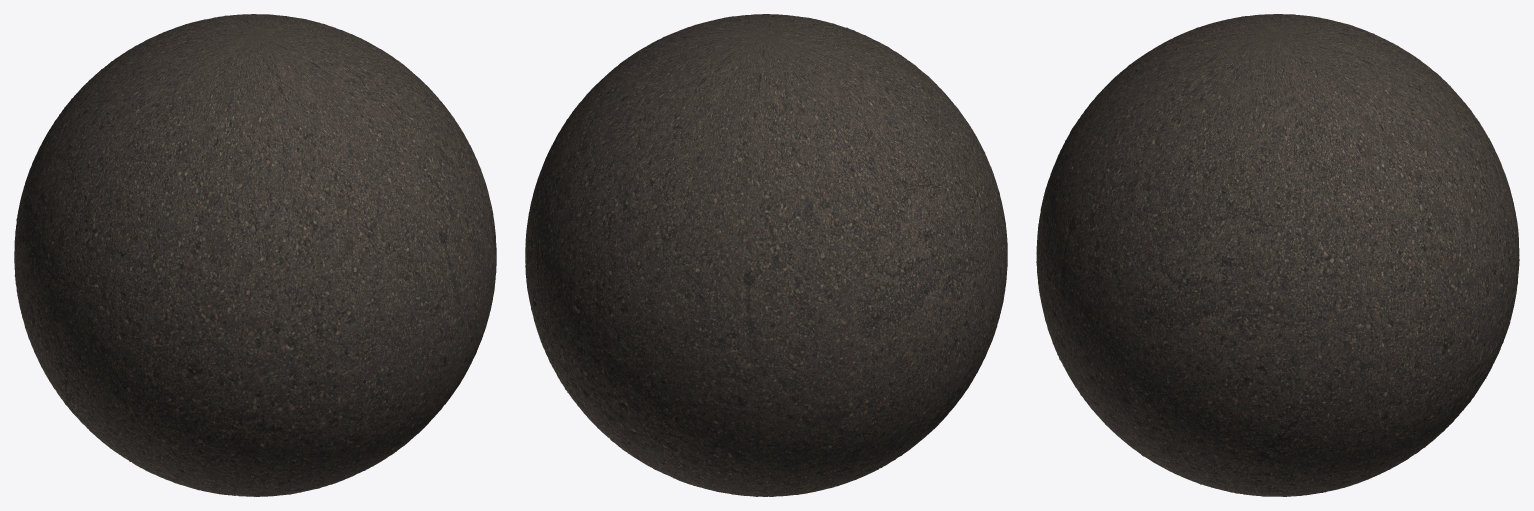
3 renders of one model, left to right at view 1: azimuth 30°, elevation 25°; view 2: azimuth 150°, elevation 25°; view 3: azimuth 270°, elevation 25°, orthographic.
Visible parts, largest first — view 1: sphere_gltf; view 2: sphere_gltf; view 3: sphere_gltf.
Boxes of the visible parts, left/top/right/bottom form: sphere_gltf: left=14, top=14, right=496, bottom=496; sphere_gltf: left=525, top=14, right=1007, bottom=496; sphere_gltf: left=1036, top=14, right=1519, bottom=496.
Bounding box in the file's own units: 0.0506 × 0.0505 × 0.0506.
Materials: 1 (1 with a texture image).
